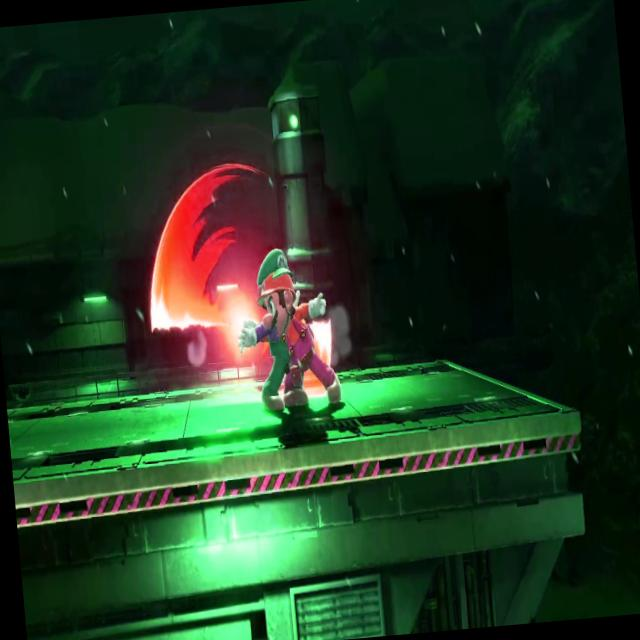Mario: (228, 244, 318, 416)
Mario-Grab: (232, 258, 346, 418)
